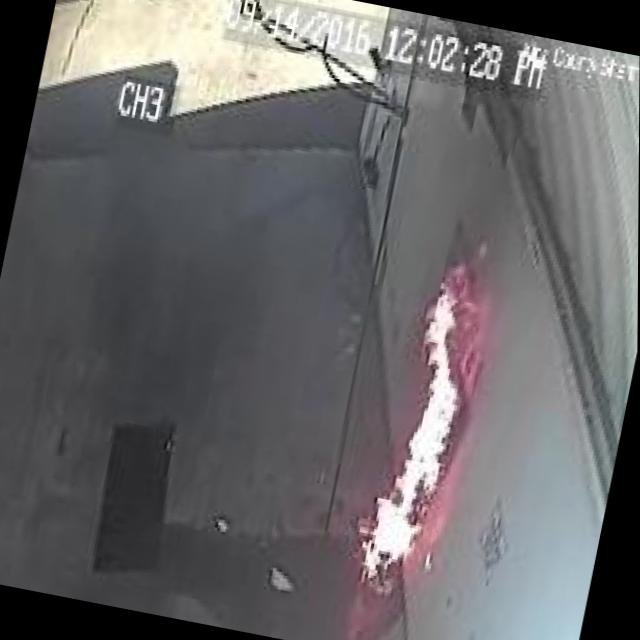fire: (349, 251, 509, 595)
